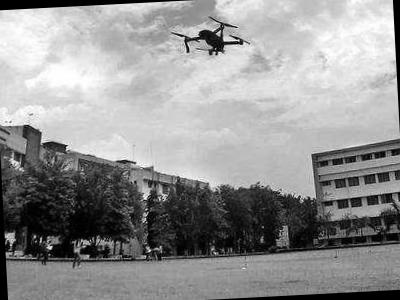drone: (168, 13, 252, 57)
